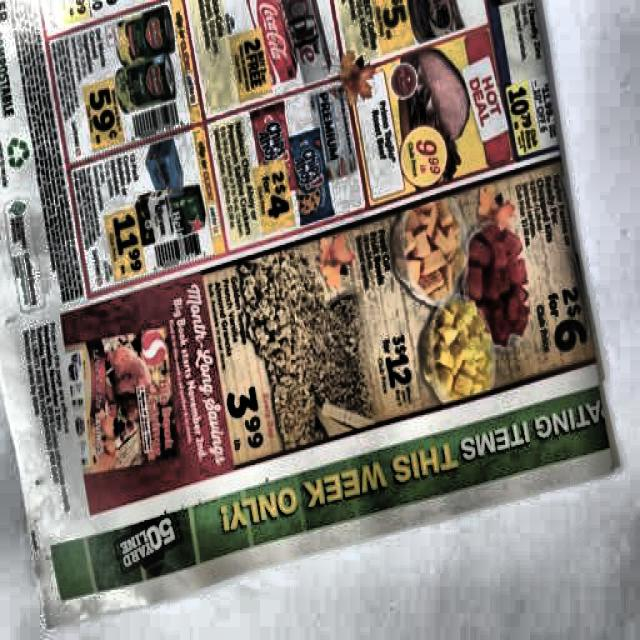paper: (0, 0, 617, 539)
